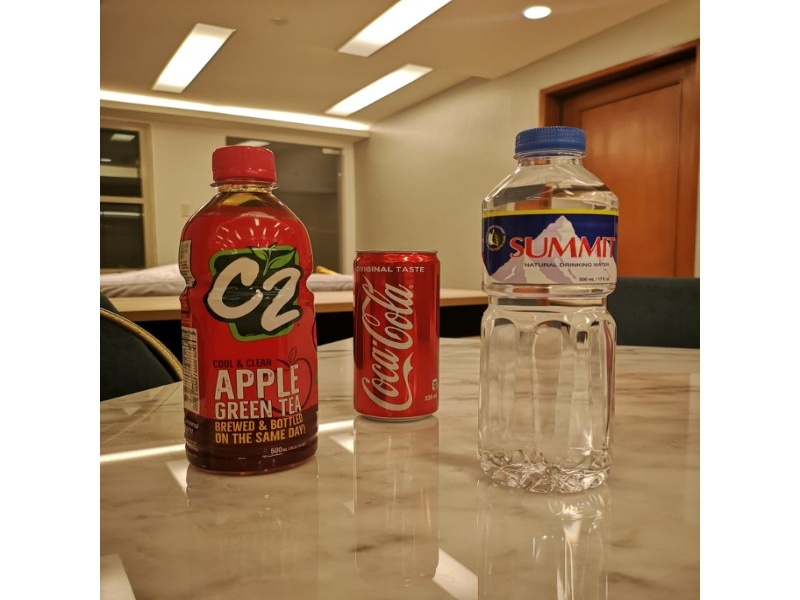PET #1: (475, 126, 623, 502), (172, 136, 324, 476)
